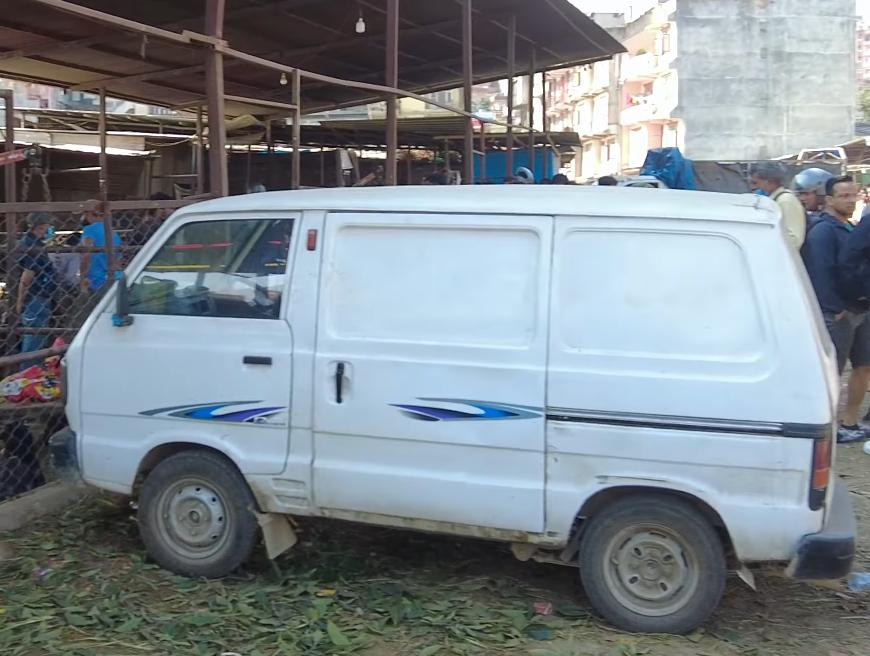van: (52, 169, 862, 631)
